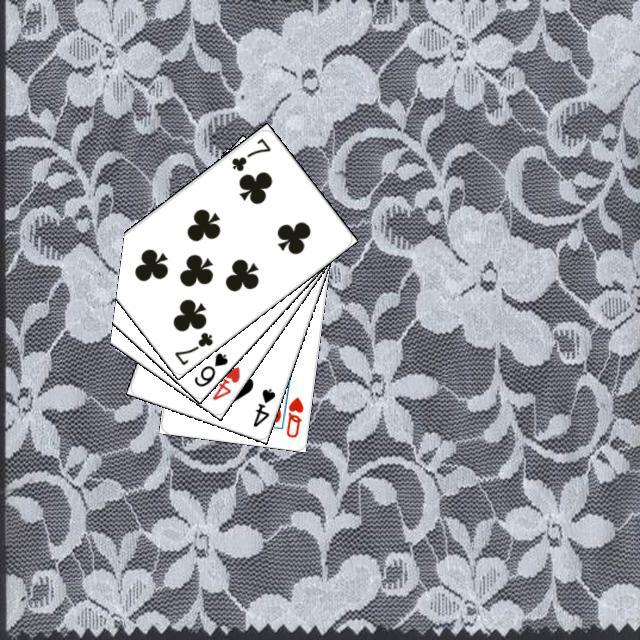4h: (207, 362, 242, 402)
4s: (248, 383, 277, 429)
6s: (189, 347, 230, 388)
7c: (226, 133, 273, 173), (169, 327, 215, 367)
Qh: (281, 392, 305, 439)
